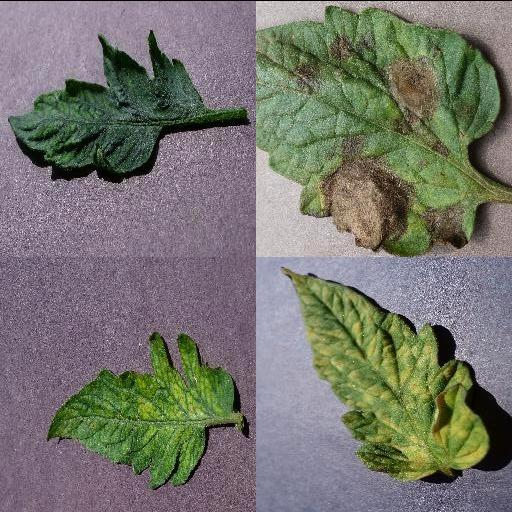Late Blight: (256, 5, 501, 256)
Leaf Mold: (280, 265, 488, 482)
Mosaic Virus: (43, 330, 237, 490), (6, 28, 210, 178)
